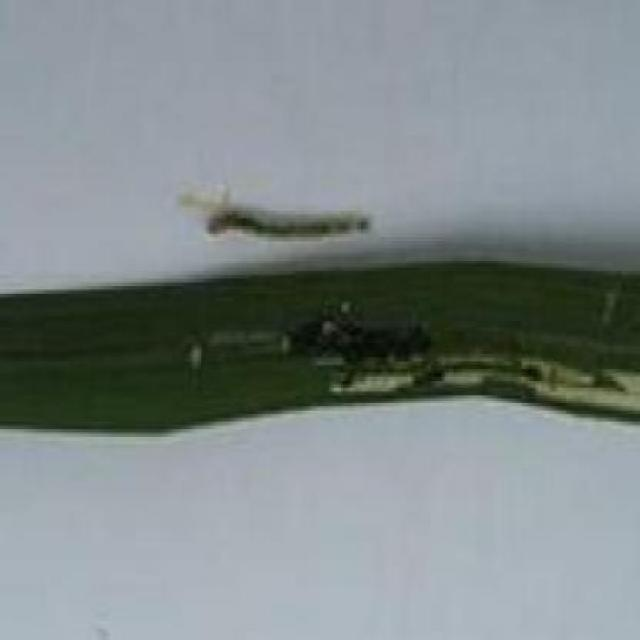leaf-folder: (169, 154, 446, 269)
